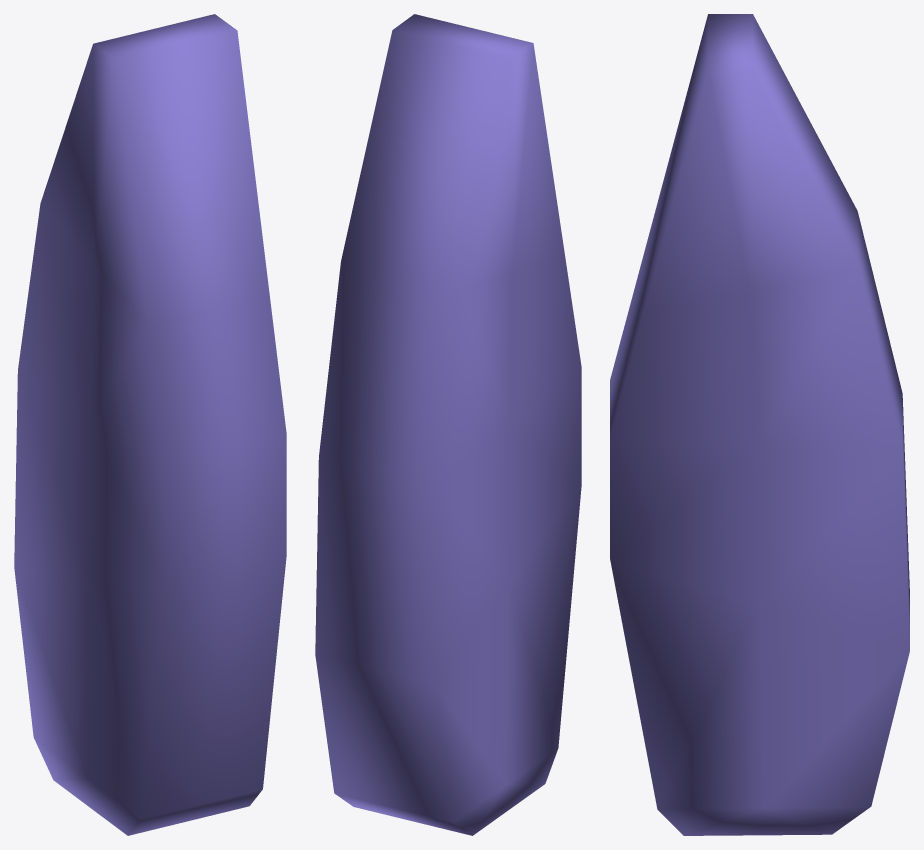
File: Cactus_Tall_04_SPR_COL.fbx
3 renders of one model, left to right at view 1: azimuth 30°, elevation 25°; view 2: azimuth 150°, elevation 25°; view 3: azimuth 270°, elevation 25°, orthographic. The views are drawn at different scales.
Visible parts, largest first — view 1: Cactus_Tall_04_SPR_COL; view 2: Cactus_Tall_04_SPR_COL; view 3: Cactus_Tall_04_SPR_COL.
Boxes of the visible parts, x1,y1,x2,y2 form: Cactus_Tall_04_SPR_COL: (14,14,286,835); Cactus_Tall_04_SPR_COL: (315,14,581,835); Cactus_Tall_04_SPR_COL: (610,14,909,835).
Size of the model in its own units: 66.62 by 401 by 143.
